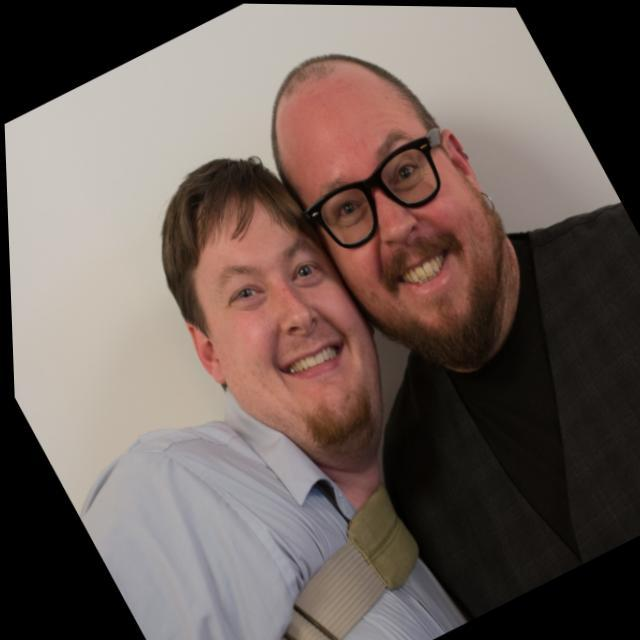Nonhelmet: (262, 39, 526, 368), (144, 140, 390, 462)
